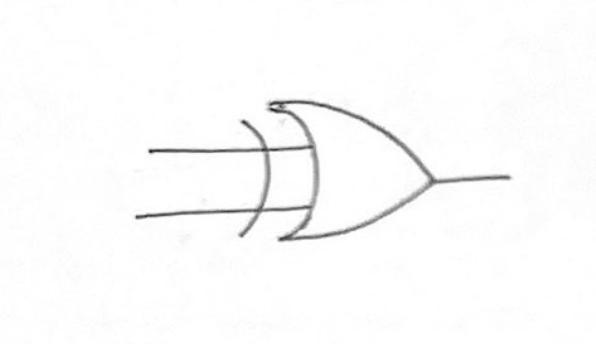XOR: (223, 77, 445, 263)
